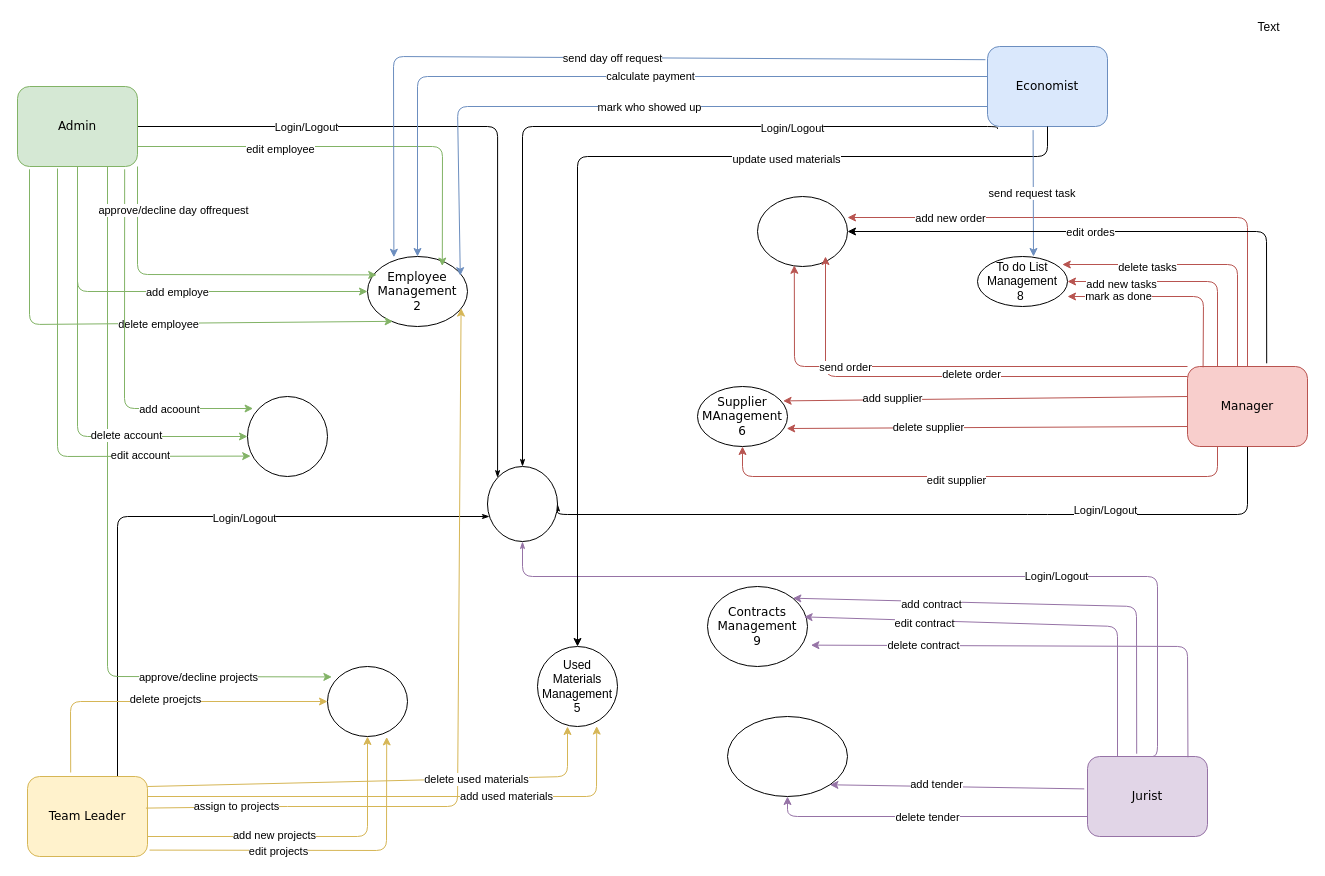
The diagram is 1325 pixels wide and 876 high, and some of its shapes have lost their labels. The box of each missing label's shape, as (x1, y1, x2, y2) in pixels:
Accounts Management 3: (246, 396, 328, 476)
General Processes 1: (486, 466, 558, 542)
Order Management 7: (756, 196, 848, 266)
Project Management 4: (326, 666, 408, 736)
Tenders Management 10: (726, 716, 848, 796)
